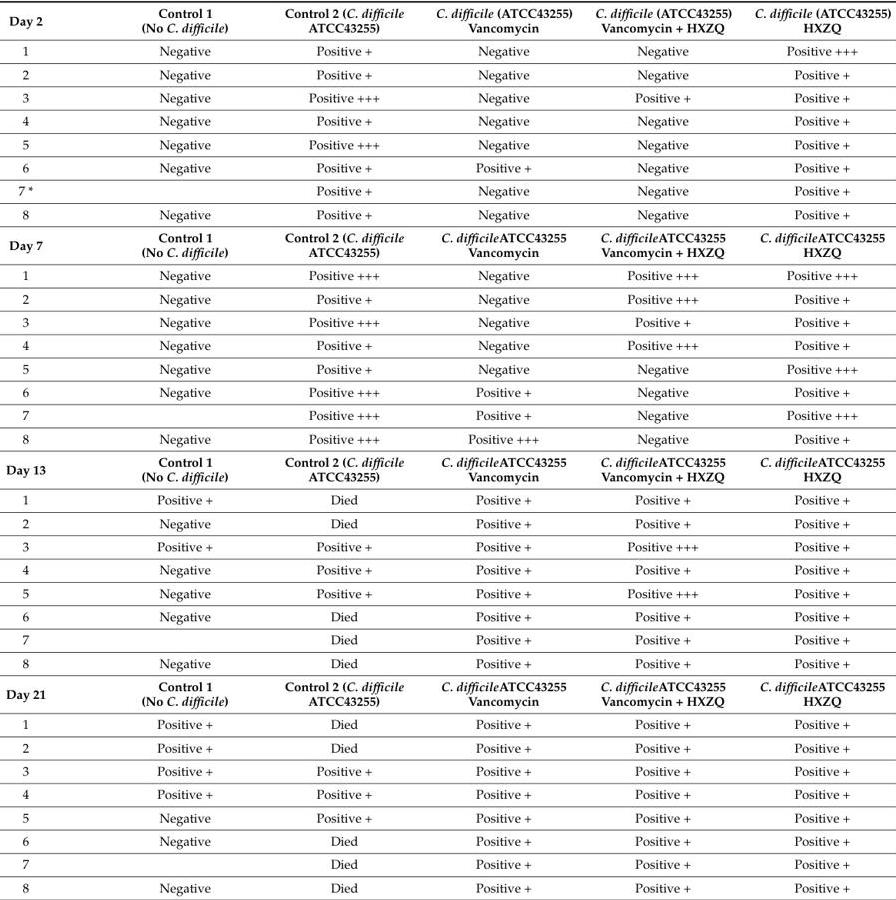table: (5, 5, 890, 895)
table column: (255, 5, 419, 895), (419, 5, 583, 895), (92, 5, 255, 895), (583, 5, 742, 895), (742, 5, 890, 895), (5, 5, 92, 895)
table column header: (5, 5, 890, 39)
table row: (5, 225, 890, 263), (5, 450, 890, 488), (5, 674, 890, 712), (5, 5, 890, 39), (5, 85, 890, 109), (5, 155, 890, 179), (5, 286, 890, 310), (5, 356, 890, 380), (5, 426, 890, 450), (5, 557, 890, 581), (5, 627, 890, 651), (5, 735, 890, 759), (5, 805, 890, 829), (5, 39, 890, 62), (5, 62, 890, 85), (5, 109, 890, 132), (5, 132, 890, 155), (5, 179, 890, 202), (5, 202, 890, 225), (5, 263, 890, 286), (5, 310, 890, 333), (5, 333, 890, 356), (5, 380, 890, 403), (5, 403, 890, 426), (5, 488, 890, 511), (5, 511, 890, 534), (5, 534, 890, 557), (5, 581, 890, 604), (5, 604, 890, 627), (5, 651, 890, 674), (5, 712, 890, 735), (5, 759, 890, 782), (5, 782, 890, 805), (5, 829, 890, 852), (5, 852, 890, 875), (5, 875, 890, 895)
